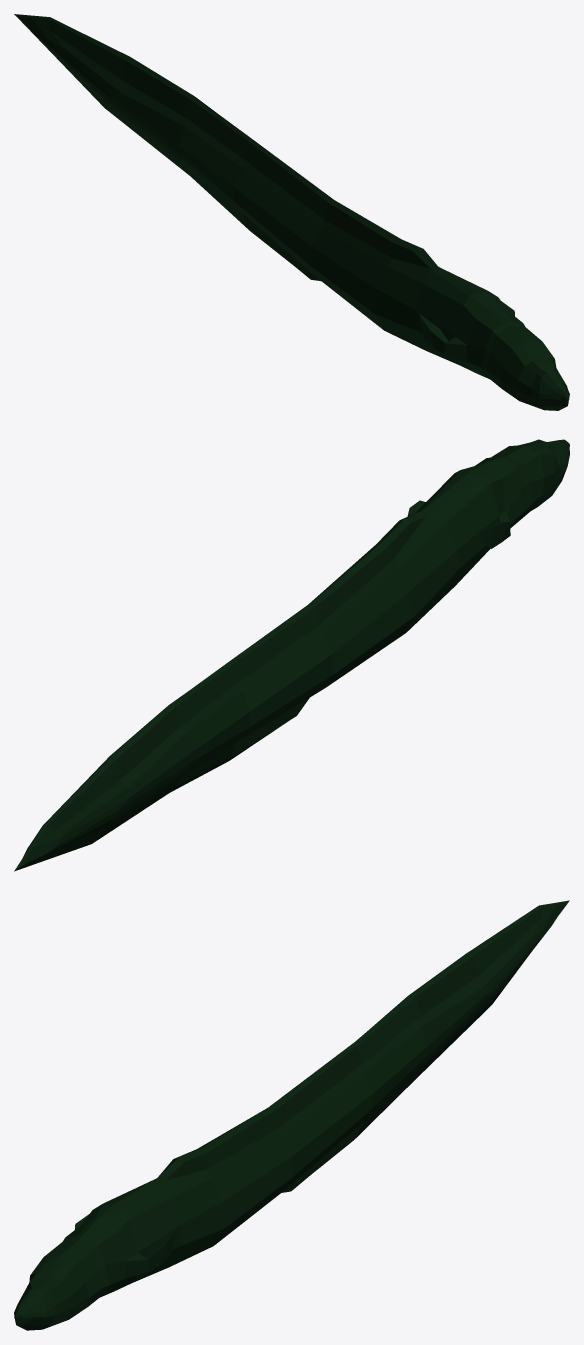
The model's file is uploads_files_2454914_Eel.obj.
3 renders of one model, top to bottom at view 1: azimuth 30°, elevation 25°; view 2: azimuth 150°, elevation 25°; view 3: azimuth 330°, elevation 25°, orthographic. The views are drawn at different scales.
Parts seen in each view (by area): view 1: Eel_EelMesh.001; view 2: Eel_EelMesh.001; view 3: Eel_EelMesh.001.
Part boxes in pixels (box(x1,y1,x2,y2)): Eel_EelMesh.001: box(14, 14, 569, 410); Eel_EelMesh.001: box(14, 439, 569, 871); Eel_EelMesh.001: box(14, 900, 569, 1330).
Size of the model in its own units: 0.3212 by 0.4017 by 3.57.
